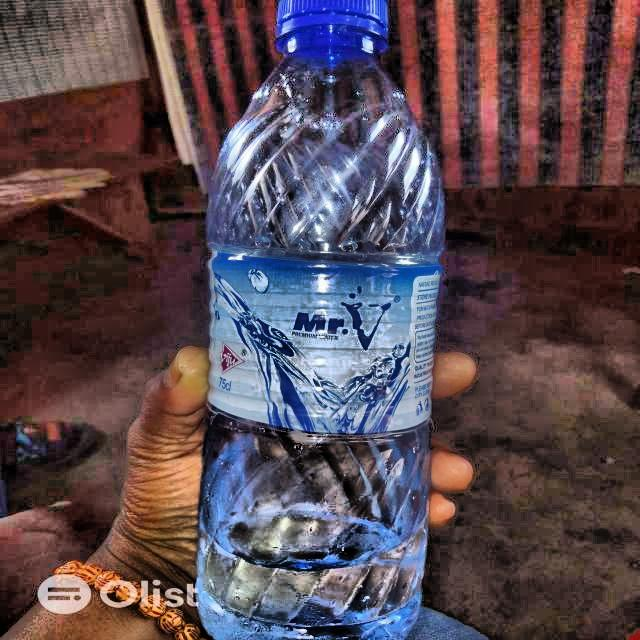plastic bottle: (199, 0, 444, 640)
